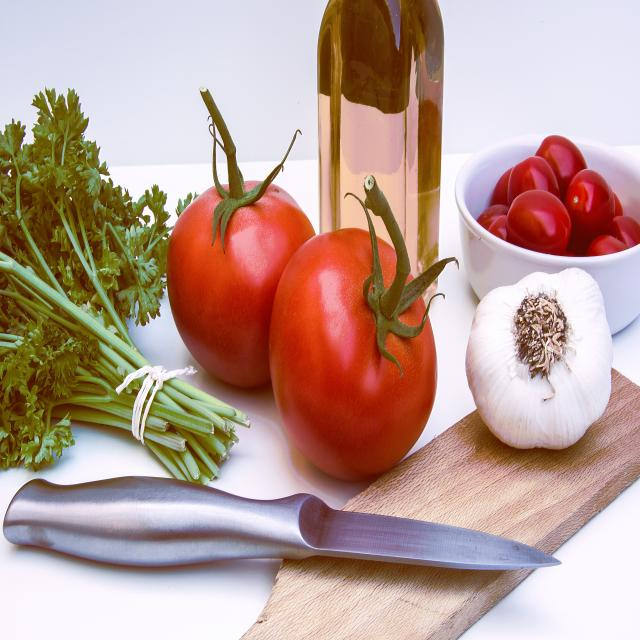Tomato: (277, 202, 440, 449), (176, 132, 323, 361)
